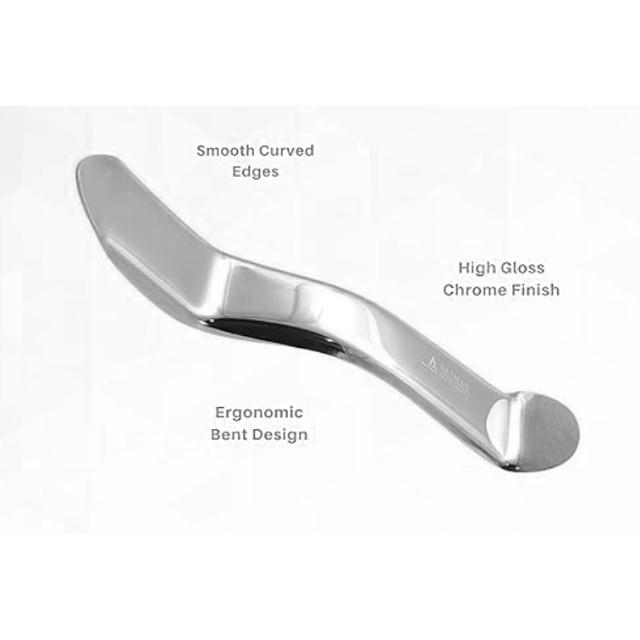separador: (73, 154, 582, 473)
